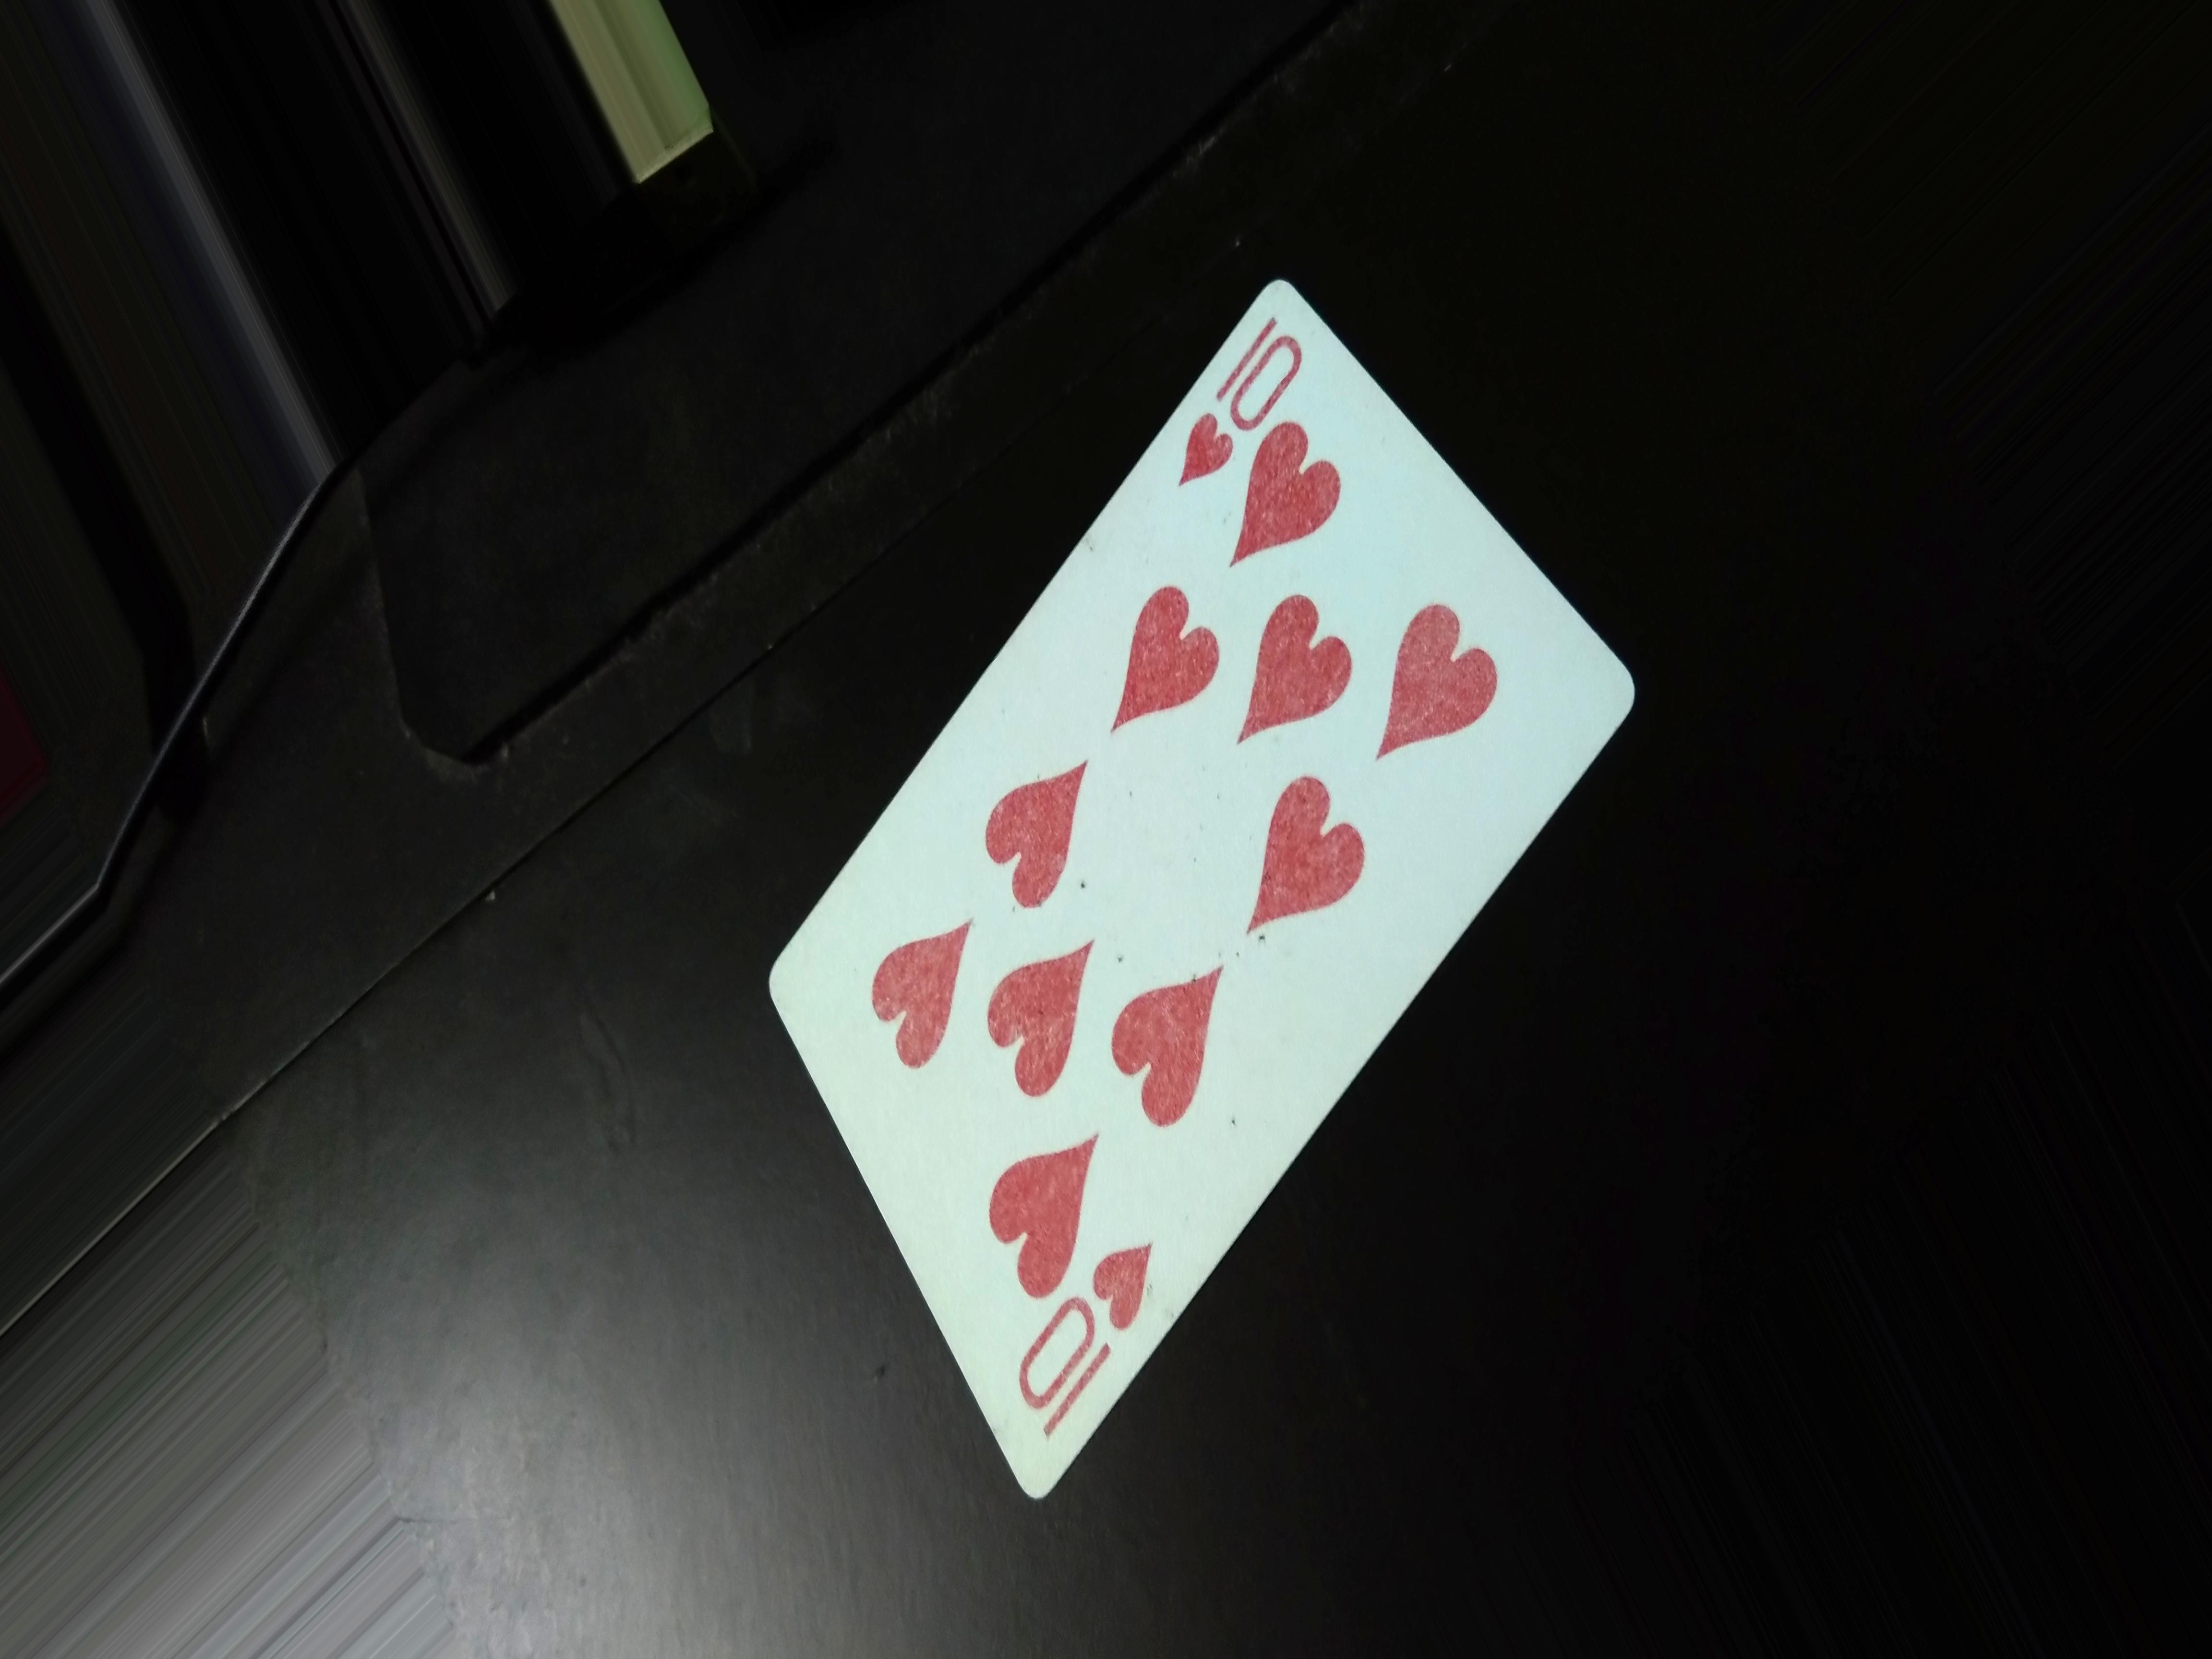10H: (1172, 315, 1305, 498)
